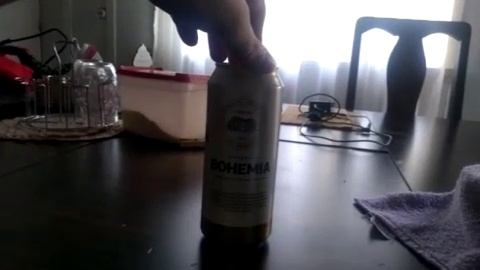bohemia: (195, 61, 283, 235)
